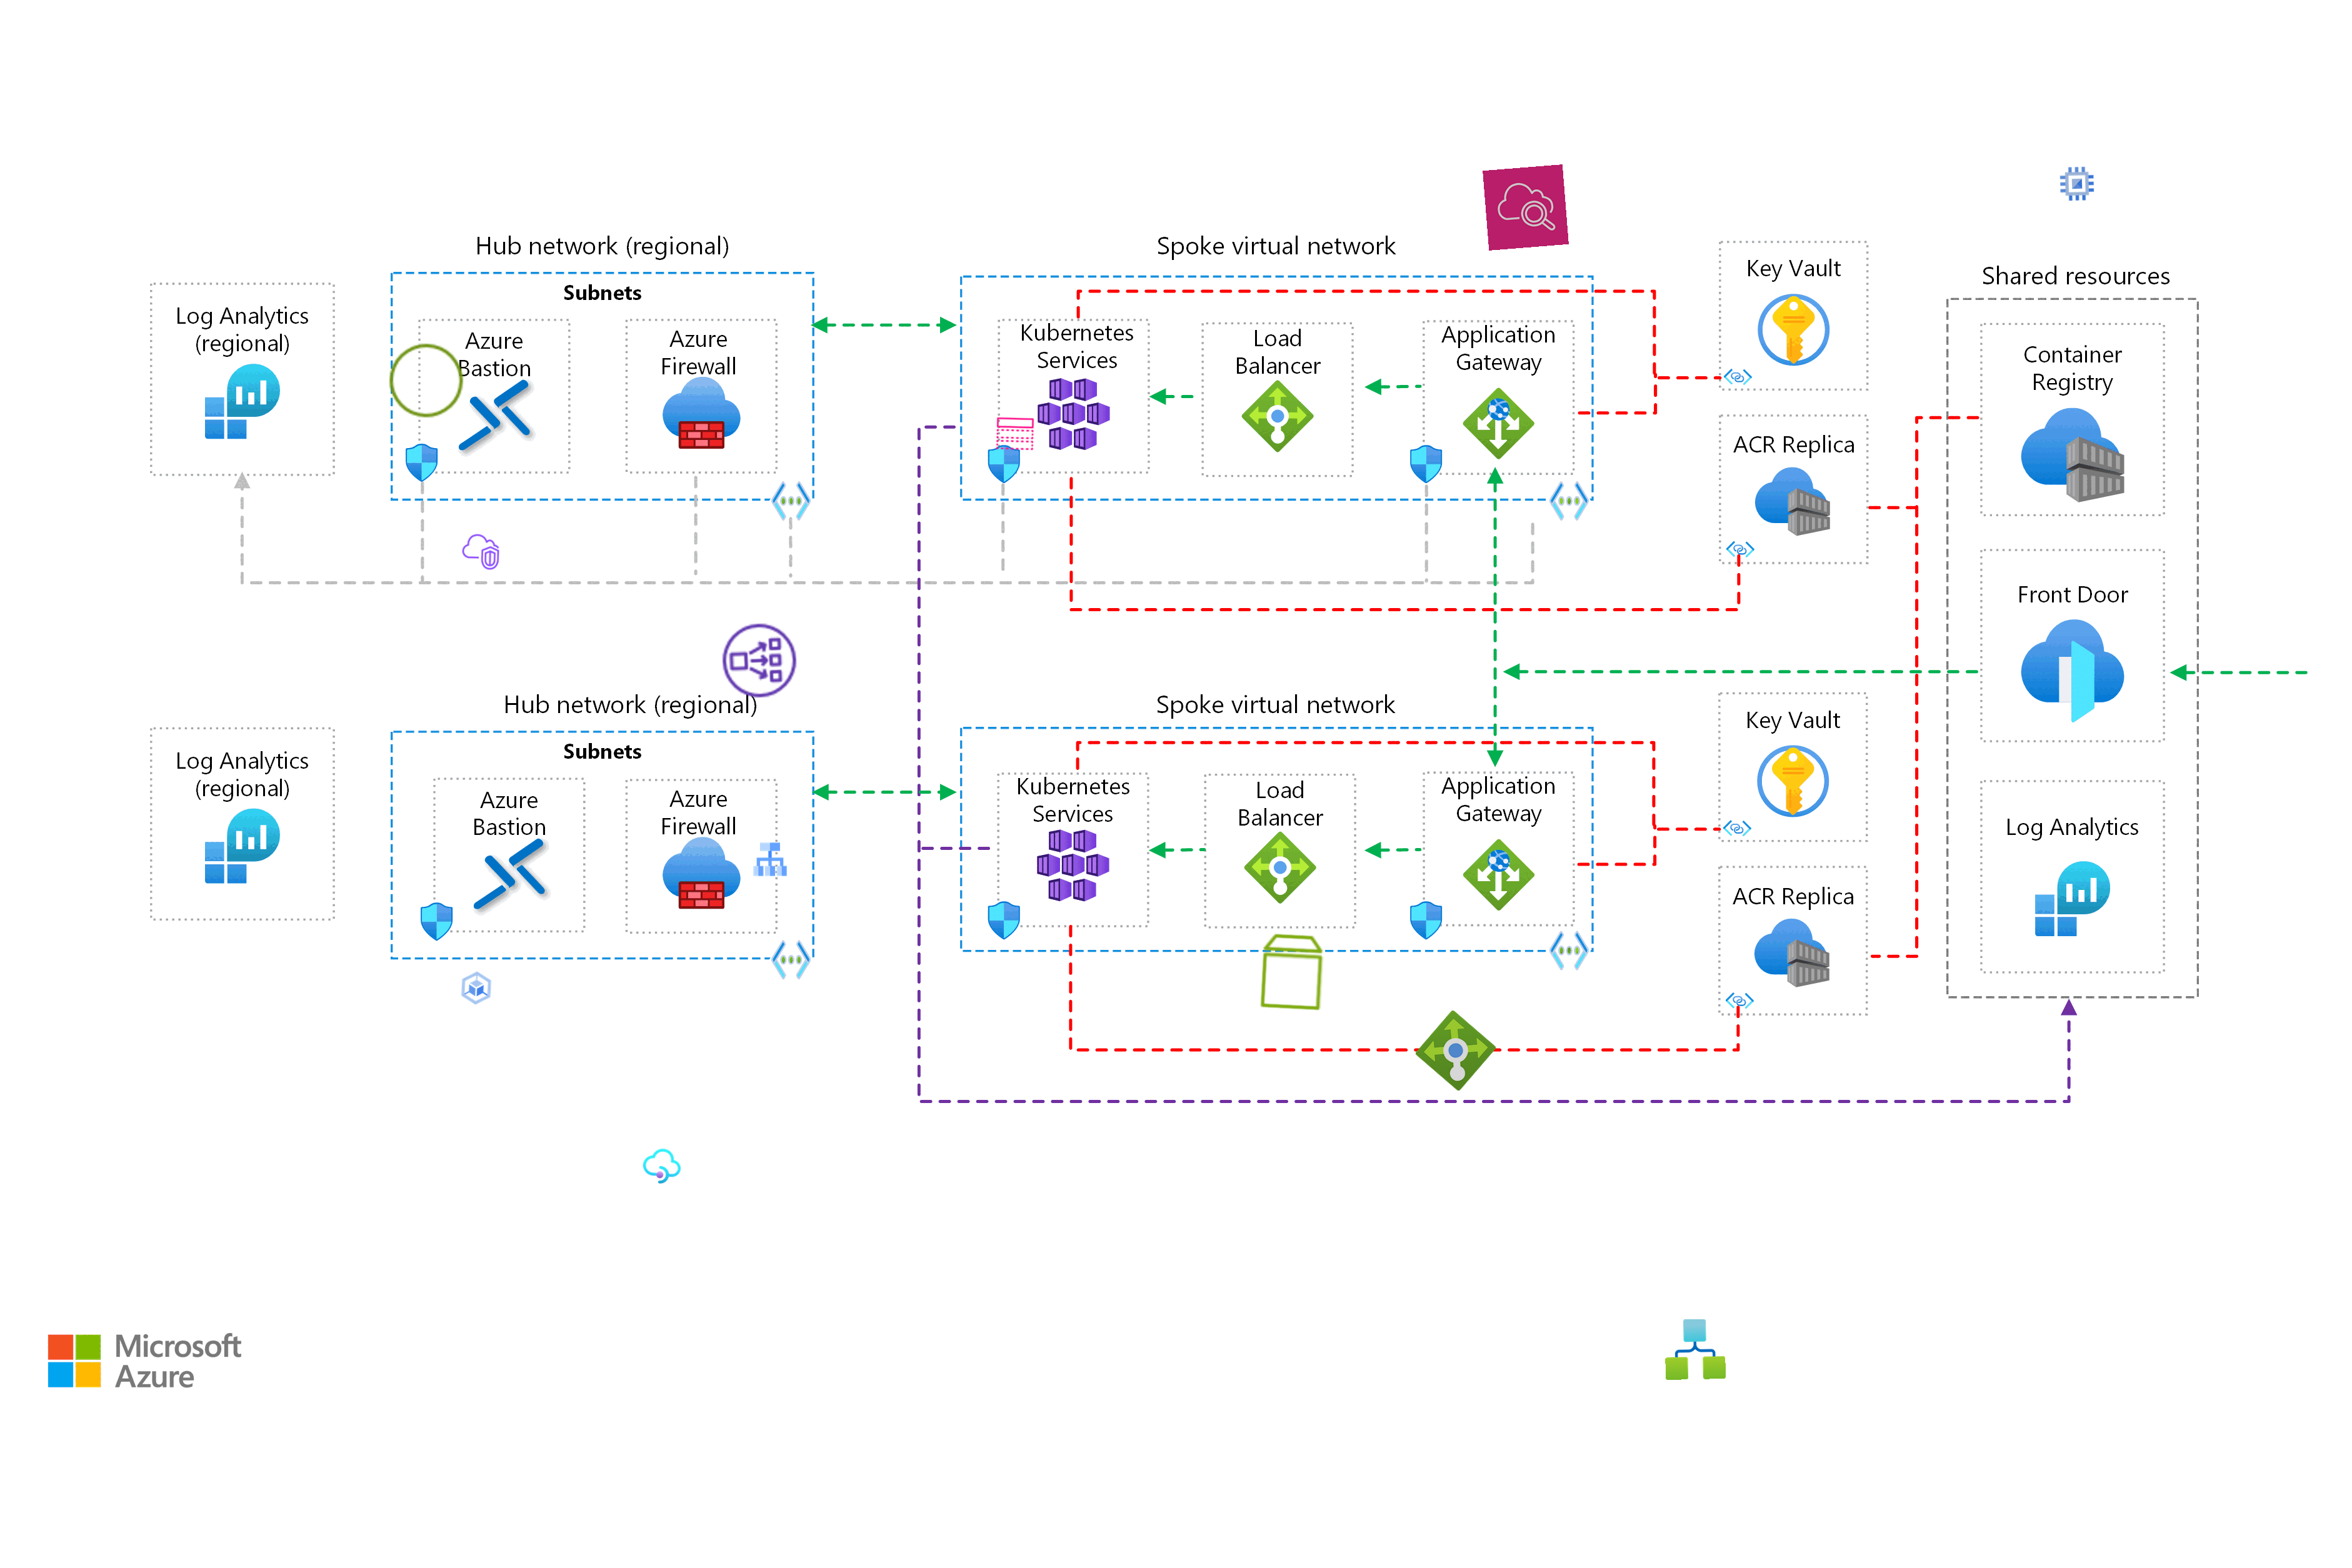aws_amazon_cloudwatch: (1482, 164, 1568, 250)
aws_elastic_block_store_volume: (1249, 929, 1335, 1015)
aws_elastic_load_balancing_network_load_balancer: (717, 619, 802, 702)
aws_simple_notification_service_topic: (994, 413, 1036, 455)
aws_simple_storage_service_object: (385, 339, 467, 422)
aws_vpc_virtual_private_cloud_vpc: (460, 532, 500, 572)
azure_api_management_services: (640, 1144, 684, 1188)
azure_load_balancers: (1412, 1008, 1498, 1094)
azure_logic_apps: (1664, 1318, 1725, 1381)
gcp_cloud_load_balancing: (749, 838, 791, 880)
gcp_compute_engine: (2056, 163, 2098, 205)
gcp_google_kubernetes_engine: (455, 966, 497, 1010)
